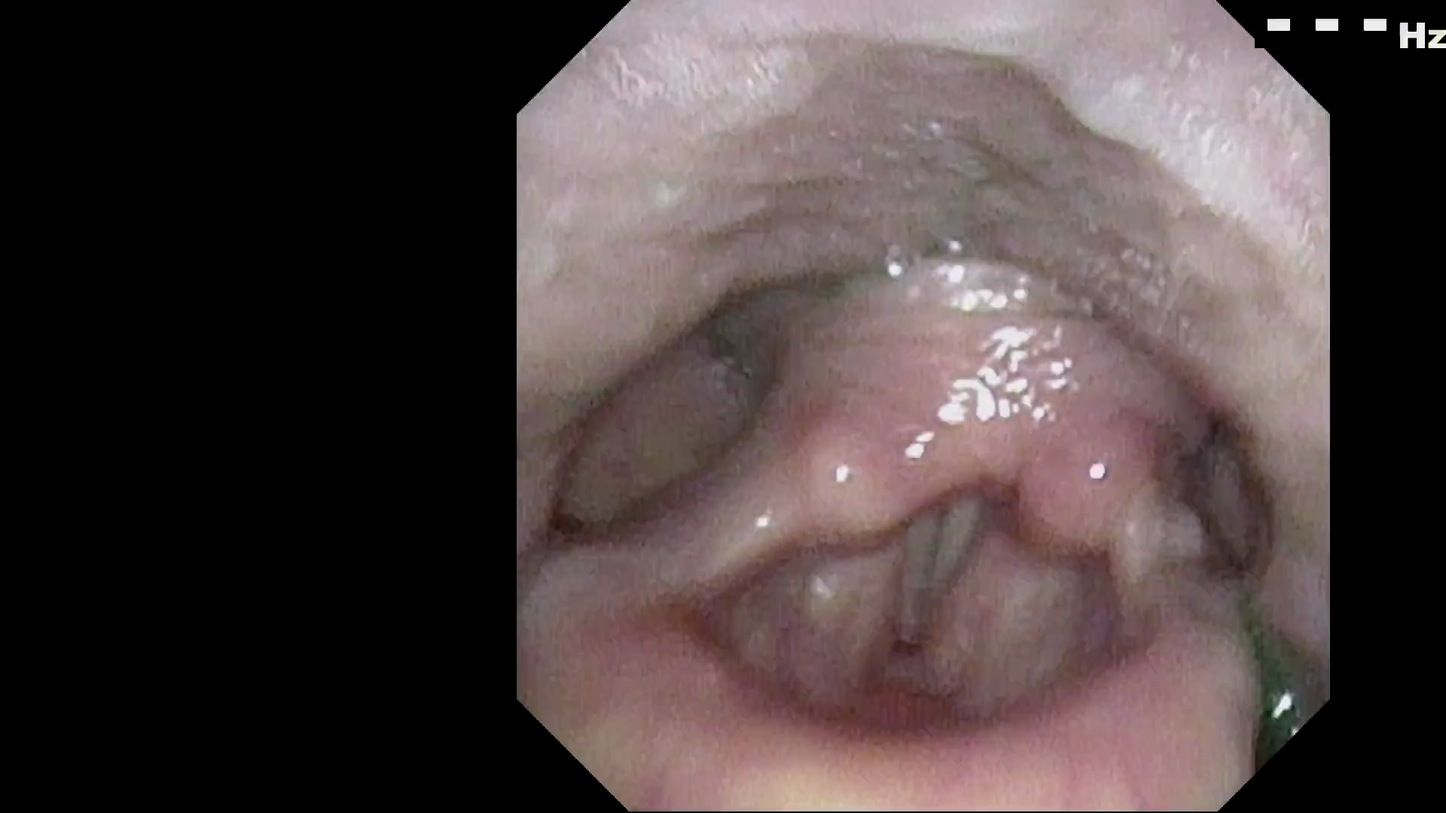epiglottis: (597, 523, 1184, 742)
trachea: (862, 455, 1029, 667)
